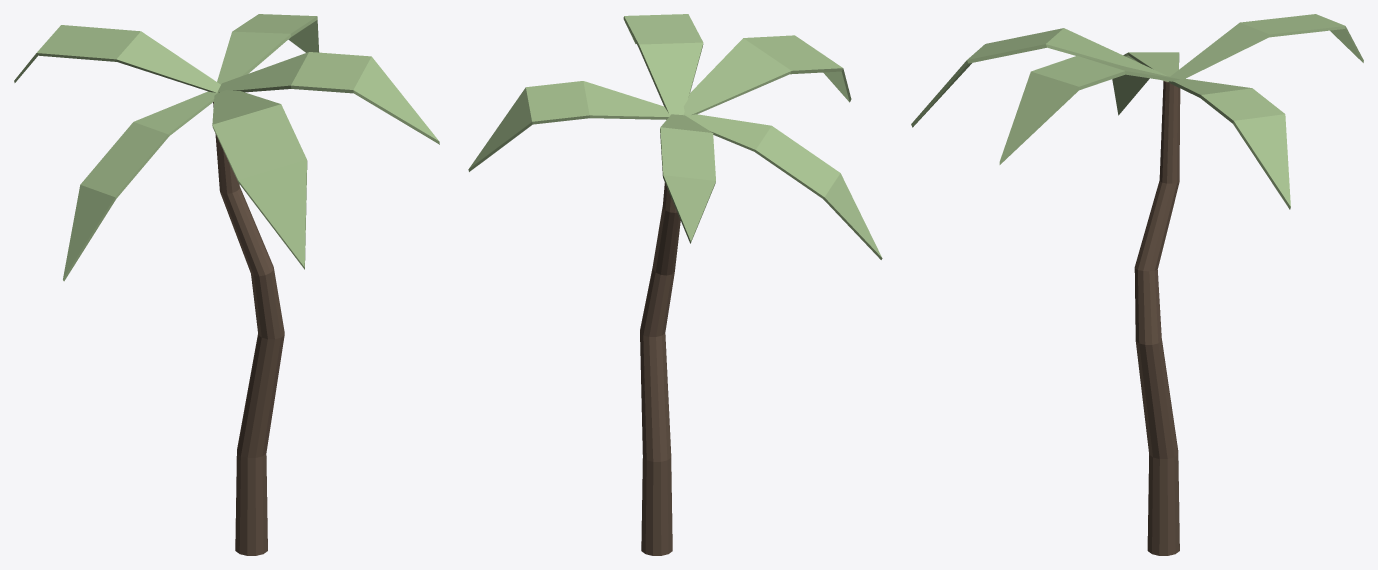
File: Isl_11_Palm_3.fbx
3 views of the same model, side by side, from view 1: azimuth 30°, elevation 25°; view 2: azimuth 150°, elevation 25°; view 3: azimuth 270°, elevation 25° (orthographic). The views are drawn at different scales.
Visible parts, largest first — view 1: Isl_11_Palm_3; view 2: Isl_11_Palm_3; view 3: Isl_11_Palm_3.
Part boxes in pixels (box(x1,y1,x2,y2)): Isl_11_Palm_3: box(14, 14, 439, 555); Isl_11_Palm_3: box(468, 14, 882, 555); Isl_11_Palm_3: box(911, 14, 1363, 555).
Bounding box in the file's own units: 322 × 371 × 452.
1 material, 1 textured.
